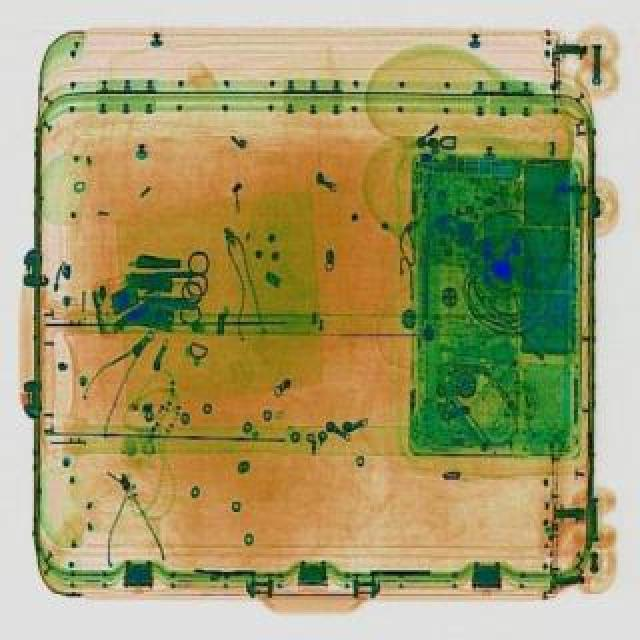pliers: (132, 276, 206, 324), (146, 246, 212, 296)
